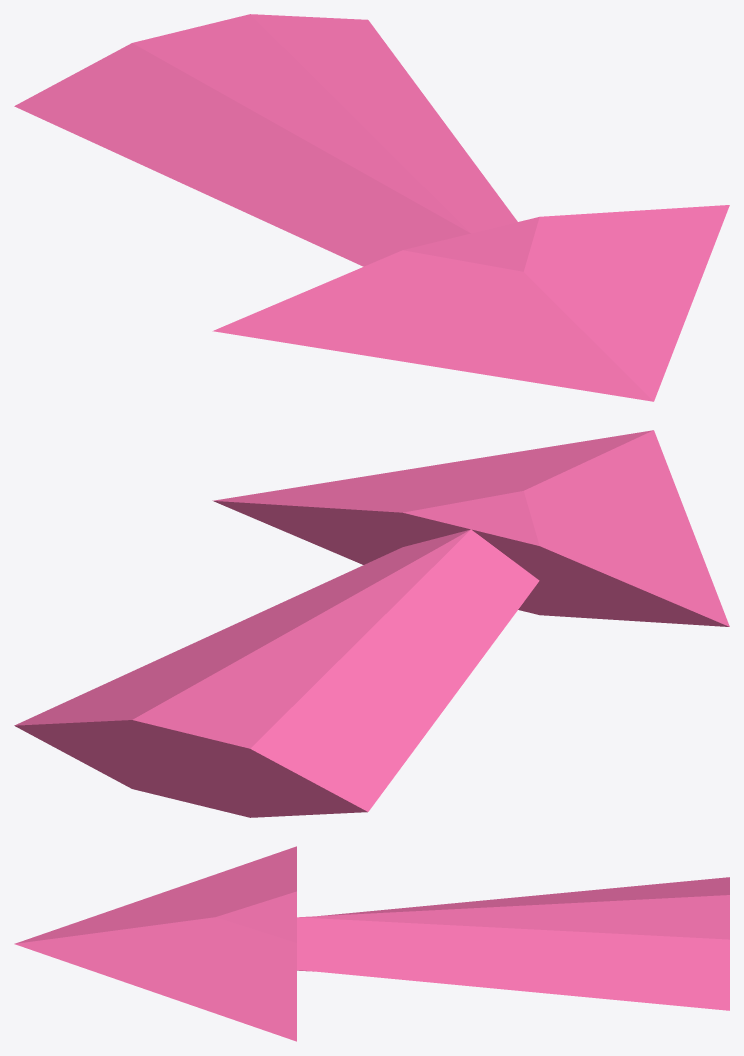
Rendered from arrow.fbx.
The picture shows the model from 3 angles, top to bottom: view 1: azimuth 30°, elevation 25°; view 2: azimuth 150°, elevation 25°; view 3: azimuth 270°, elevation 25°; orthographic projection. The views are drawn at different scales.
Visible parts, largest first — view 1: Plane; view 2: Plane; view 3: Plane.
Part boxes in pixels (x1,y1,x2,y2): Plane: [14, 14, 729, 401]; Plane: [14, 430, 729, 817]; Plane: [14, 846, 729, 1041].
Bounding box in the file's own units: 163 × 20.83 × 253.
